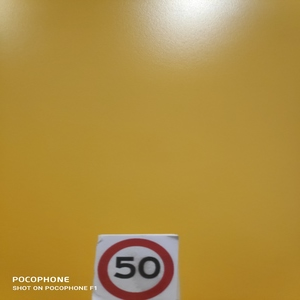50-bord: (97, 235, 178, 299)
